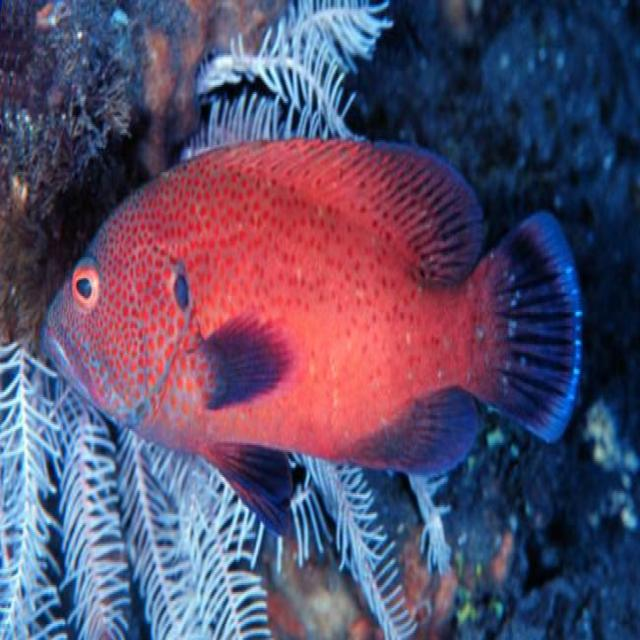ikan: (39, 108, 586, 540)
